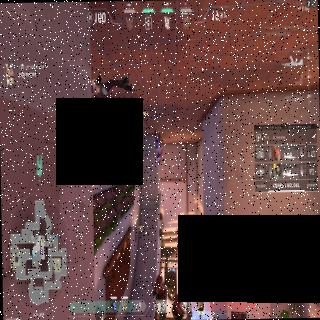ENEMY-BODY: (154, 128, 162, 165)
ENEMY-HEAD: (92, 92, 99, 102), (158, 158, 160, 164)
